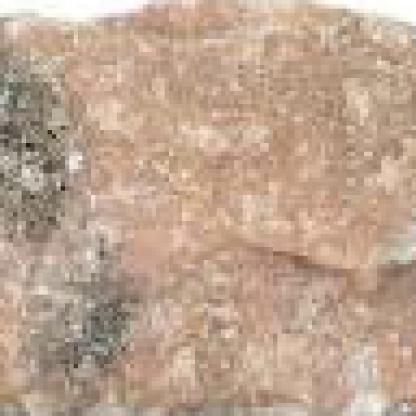Metamorphic_Quartize: (0, 0, 412, 412)
